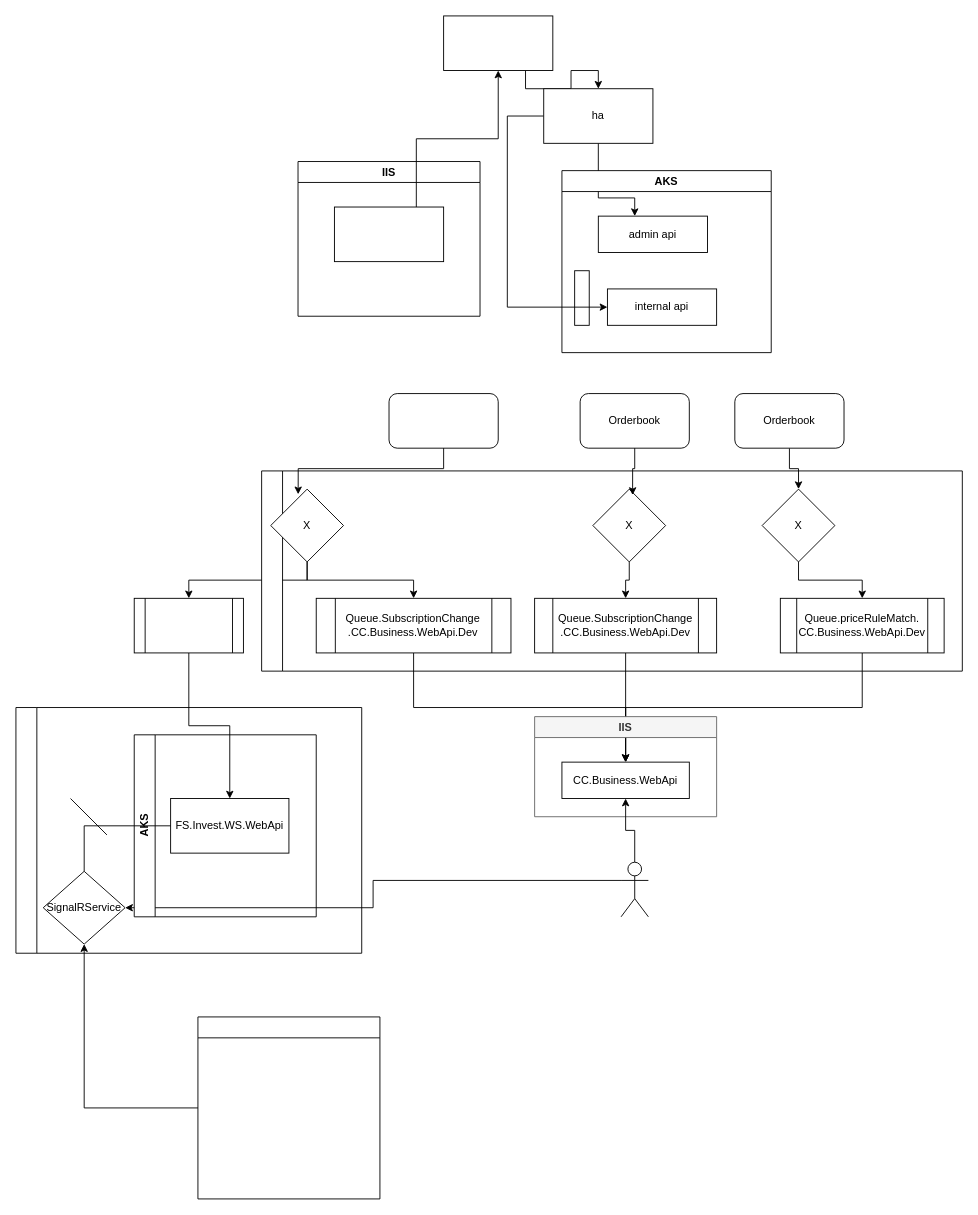
This 978x1215 diagram has some shape labels left out. Each missing label, with the box of its shape:
Actor: (620, 861, 648, 917)
Azure: (15, 707, 362, 953)
businesshost: (334, 206, 444, 262)
CF: (443, 15, 553, 71)
ingress: (574, 270, 589, 325)
Native: (197, 1016, 380, 1199)
Price Live 2: (133, 597, 243, 653)
RMQ: (261, 470, 962, 671)
